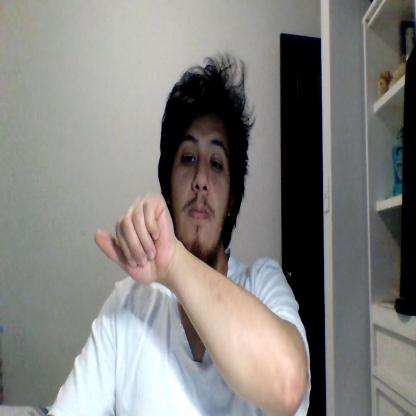A: (94, 189, 176, 286)
